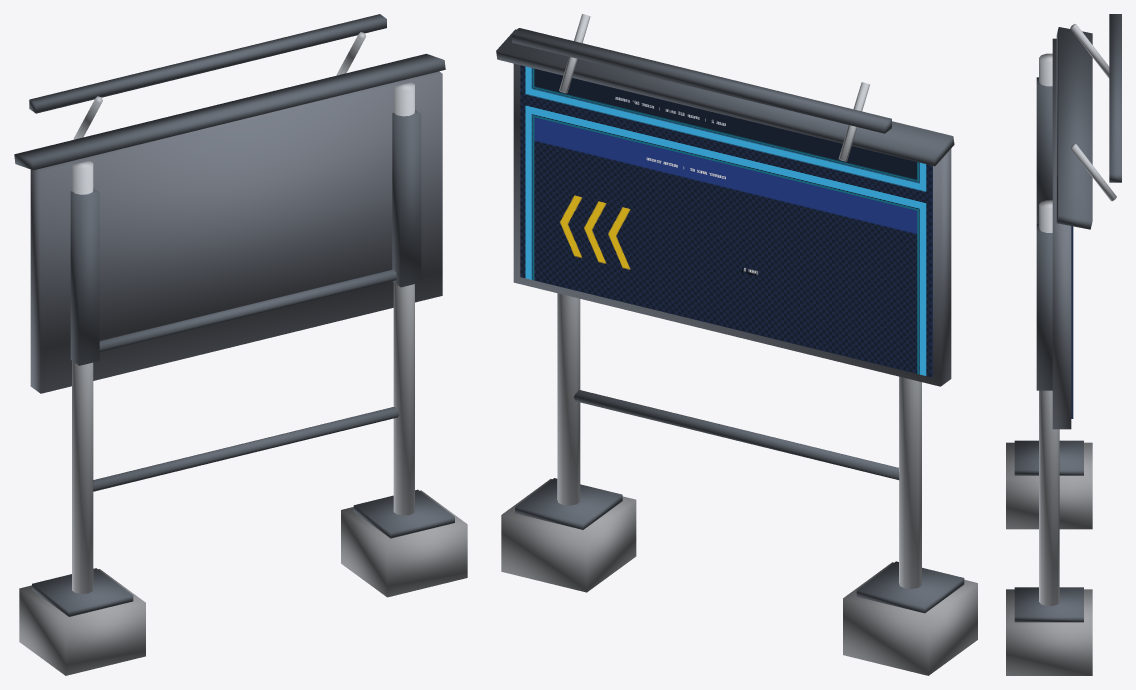
File: photorealistic_turn_sign.glb
3 renders of one model, left to right at view 1: azimuth 30°, elevation 25°; view 2: azimuth 150°, elevation 25°; view 3: azimuth 270°, elevation 25°, orthographic. The views are drawn at different scales.
Parts seen in each view (by area): view 1: SignCassette_1, VisorCowl_1, Pedestal_1_-1.1, Pedestal_1_1.1, FloodlightBar_1, Column_1_-1.1, Column_1_1.1, RearClampL_1, RearClampR_1, GantryStrut1_1, GantryStrut2_1, Plate_1_1.1 (+1 smaller); view 2: TurnDisplayFace_1, VisorCowl_1, SignCassette_1, Pedestal_1_1.1, Pedestal_1_-1.1, FloodlightBar_1, Column_1_1.1, Column_1_-1.1, GantryStrut1_1, Plate_1_1.1, Plate_1_-1.1; view 3: VisorCowl_1, Pedestal_1_1.1, SignCassette_1, Column_1_1.1, Pedestal_1_-1.1, RearClampR_1, FloodlightBar_1, Plate_1_1.1, RearClampL_1, Plate_1_-1.1, TurnDisplayFace_1, FloodArmR_1 (+2 smaller).
Part boxes in pixels (<box>): SignCassette_1: <box>30,71,442,393</box>; VisorCowl_1: <box>14,53,445,170</box>; Pedestal_1_-1.1: <box>19,569,145,675</box>; Pedestal_1_1.1: <box>341,490,467,597</box>; FloodlightBar_1: <box>29,14,386,113</box>; Column_1_-1.1: <box>72,161,93,593</box>; Column_1_1.1: <box>393,82,414,515</box>; RearClampL_1: <box>70,188,99,365</box>; RearClampR_1: <box>392,110,421,287</box>; GantryStrut1_1: <box>93,407,399,491</box>; GantryStrut2_1: <box>99,269,396,352</box>; Plate_1_1.1: <box>353,489,454,538</box>; TurnDisplayFace_1: <box>520,65,932,377</box>; VisorCowl_1: <box>496,29,954,166</box>; SignCassette_1: <box>513,63,951,386</box>; Pedestal_1_1.1: <box>501,479,636,592</box>; Pedestal_1_-1.1: <box>843,562,977,675</box>; FloodlightBar_1: <box>512,28,891,133</box>; Column_1_1.1: <box>557,293,580,505</box>; Column_1_-1.1: <box>899,376,921,588</box>; GantryStrut1_1: <box>573,390,899,479</box>; Plate_1_1.1: <box>515,478,622,529</box>; Plate_1_-1.1: <box>856,561,964,613</box>; VisorCowl_1: <box>1056,27,1092,229</box>; Pedestal_1_1.1: <box>1006,589,1092,675</box>; SignCassette_1: <box>1052,38,1071,429</box>; Column_1_1.1: <box>1039,200,1059,605</box>; Pedestal_1_-1.1: <box>1006,442,1092,529</box>; RearClampR_1: <box>1036,224,1052,390</box>; FloodlightBar_1: <box>1109,14,1121,182</box>; Plate_1_1.1: <box>1014,587,1083,622</box>; RearClampL_1: <box>1036,77,1052,223</box>; Plate_1_-1.1: <box>1014,440,1083,475</box>; TurnDisplayFace_1: <box>1071,226,1073,418</box>; FloodArmR_1: <box>1070,144,1116,201</box>.
Bounding box in the file's own units: 2.82 × 3.5 × 0.735.
Materials: 9 (4 with a texture image).
